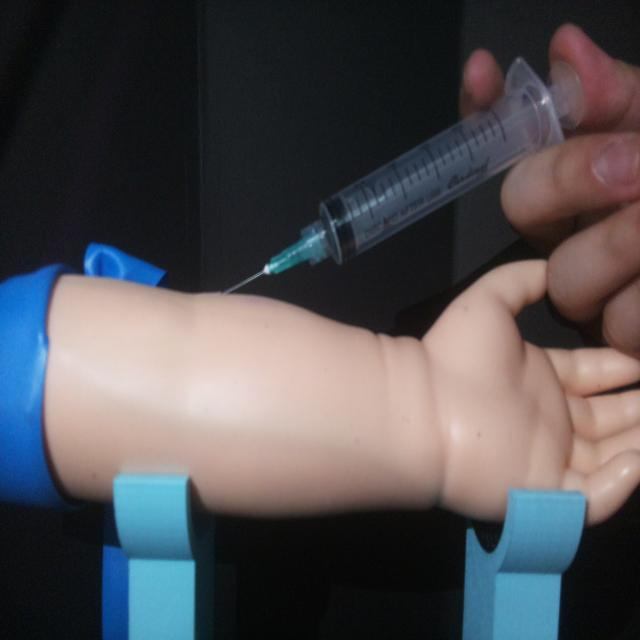23deg: (215, 51, 588, 299)
